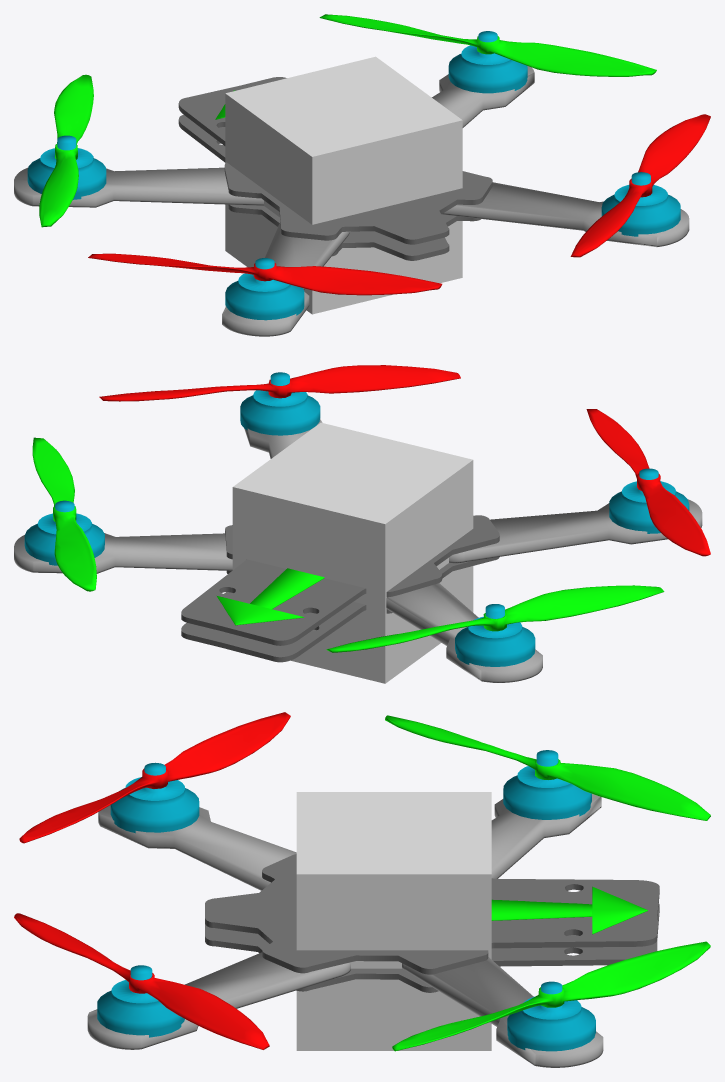
Rendered from quad_x.glb.
3 views of the same model, one above another, from view 1: azimuth 30°, elevation 25°; view 2: azimuth 150°, elevation 25°; view 3: azimuth 270°, elevation 25° (orthographic). The views are drawn at different scales.
Visible parts, largest first — view 1: quad_xjson, Cube, prop3, prop1, prop4, prop2; view 2: quad_xjson, Cube, prop2, prop4, prop3, prop1; view 3: quad_xjson, Cube, prop2, prop1, prop3, prop4.
Boxes of the visible parts, <box> form: quad_xjson: <box>14,31,689,336</box>; Cube: <box>225,56,462,314</box>; prop3: <box>88,253,442,295</box>; prop1: <box>319,14,656,76</box>; prop4: <box>570,114,710,257</box>; prop2: <box>39,74,235,227</box>; quad_xjson: <box>14,372,702,682</box>; Cube: <box>232,422,473,683</box>; prop2: <box>217,568,664,652</box>; prop4: <box>99,365,460,401</box>; prop3: <box>586,409,710,556</box>; prop1: <box>32,437,96,591</box>; quad_xjson: <box>87,750,659,1067</box>; Cube: <box>296,792,491,1050</box>; prop2: <box>385,715,710,934</box>; prop1: <box>392,941,710,1051</box>; prop3: <box>19,712,290,843</box>; prop4: <box>14,913,269,1049</box>.
Bounding box in the file's own units: 8.22 × 2 × 7.15.
